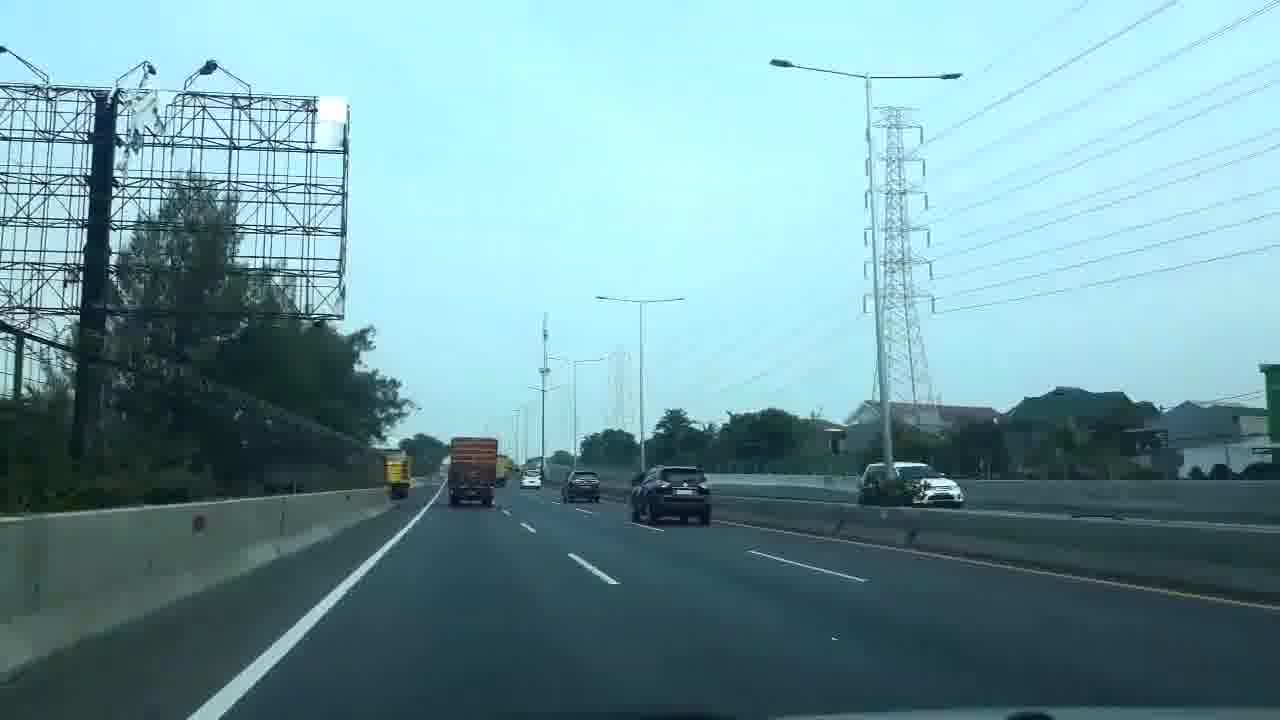plate_positive: (675, 489, 695, 495)
